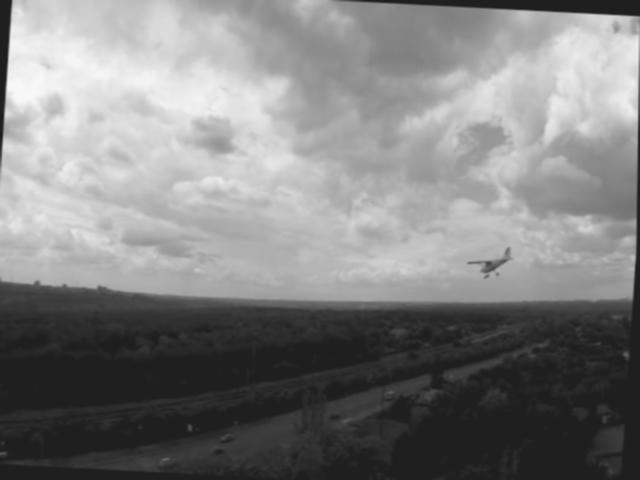hedef: (466, 234, 524, 292)
